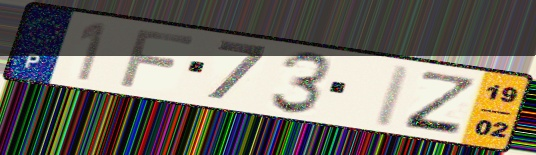1: (75, 20, 111, 84)
3: (269, 49, 333, 116)
7: (203, 38, 273, 104)
F: (116, 27, 198, 90)
I: (369, 62, 416, 130)
Z: (399, 69, 479, 137)
